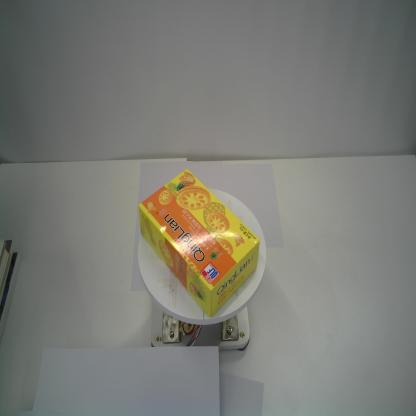Dessert: (139, 168, 260, 318)
